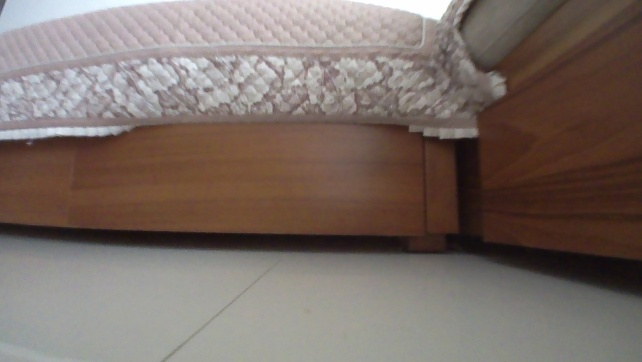sofa1: (0, 0, 641, 264)
